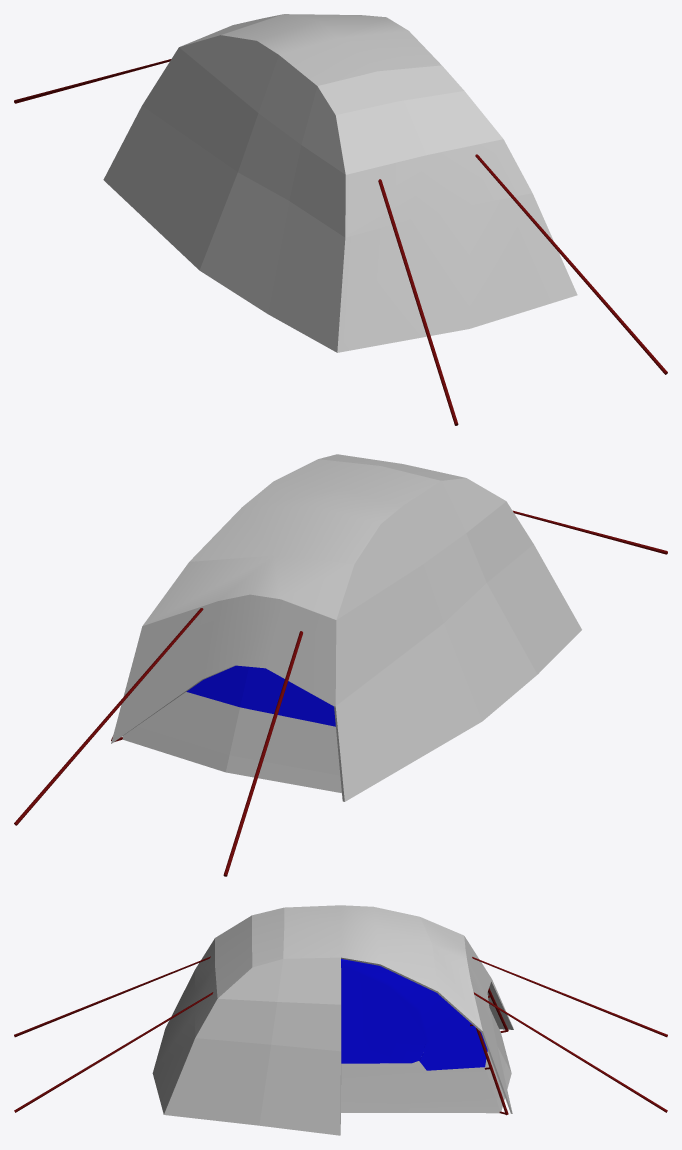
The model's file is tent.fbx.
The picture shows the model from 3 angles, top to bottom: view 1: azimuth 30°, elevation 25°; view 2: azimuth 150°, elevation 25°; view 3: azimuth 270°, elevation 25°; orthographic projection. The views are drawn at different scales.
Visible parts, largest first — view 1: cover, Cables; view 2: cover, tent, Cables; view 3: cover, tent, screen_1, Cables, support.
Part boxes in pixels (box(x1,y1,x2,y2)): cover: box(103, 14, 577, 352); Cables: box(14, 59, 667, 425); cover: box(111, 454, 581, 801); tent: box(122, 665, 341, 793); Cables: box(14, 510, 667, 876); cover: box(152, 905, 513, 1135); tent: box(341, 959, 511, 1113); screen_1: box(341, 964, 425, 1063); Cables: box(14, 956, 667, 1112); support: box(470, 988, 508, 1115).
Bounding box in the file's own units: 192 × 117 × 466.
